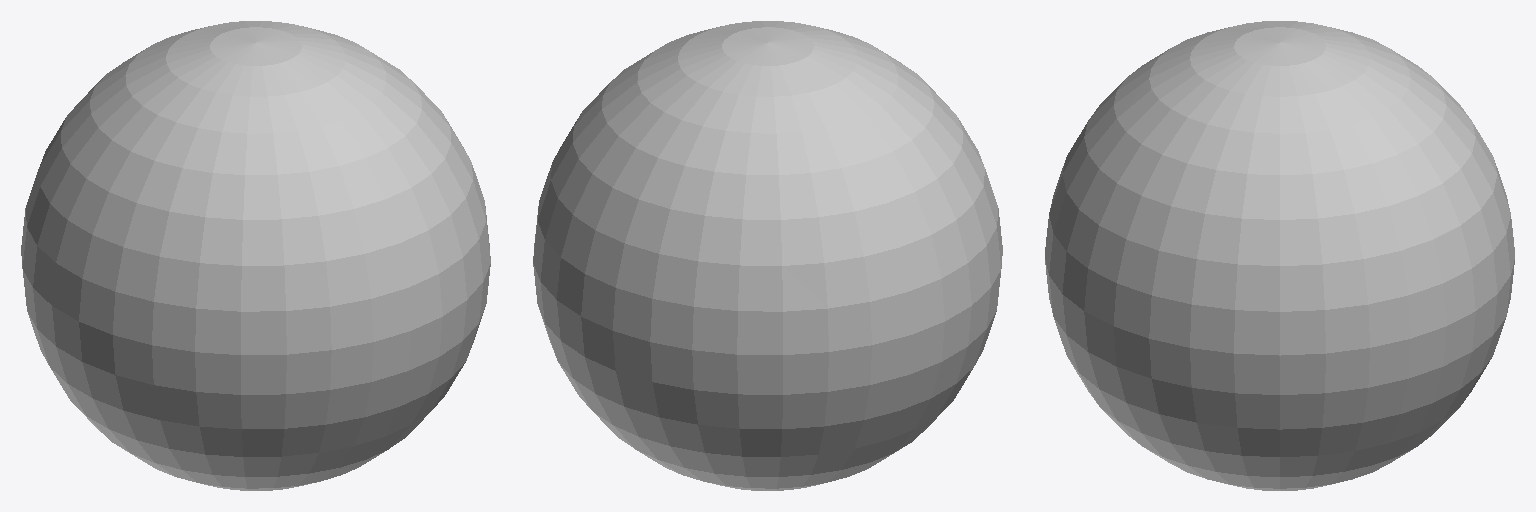
The model's file is fireOrb2.obj.
3 renders of one model, left to right at view 1: azimuth 30°, elevation 25°; view 2: azimuth 150°, elevation 25°; view 3: azimuth 270°, elevation 25°, orthographic.
Visible parts, largest first — view 1: Sphere.001_Sphere.002; view 2: Sphere.001_Sphere.002; view 3: Sphere.001_Sphere.002.
Boxes of the visible parts, <box> form: Sphere.001_Sphere.002: <box>21,21,490,490</box>; Sphere.001_Sphere.002: <box>533,21,1002,490</box>; Sphere.001_Sphere.002: <box>1045,21,1514,490</box>.
Size of the model in its own units: 0.1788 by 0.1788 by 0.1788.